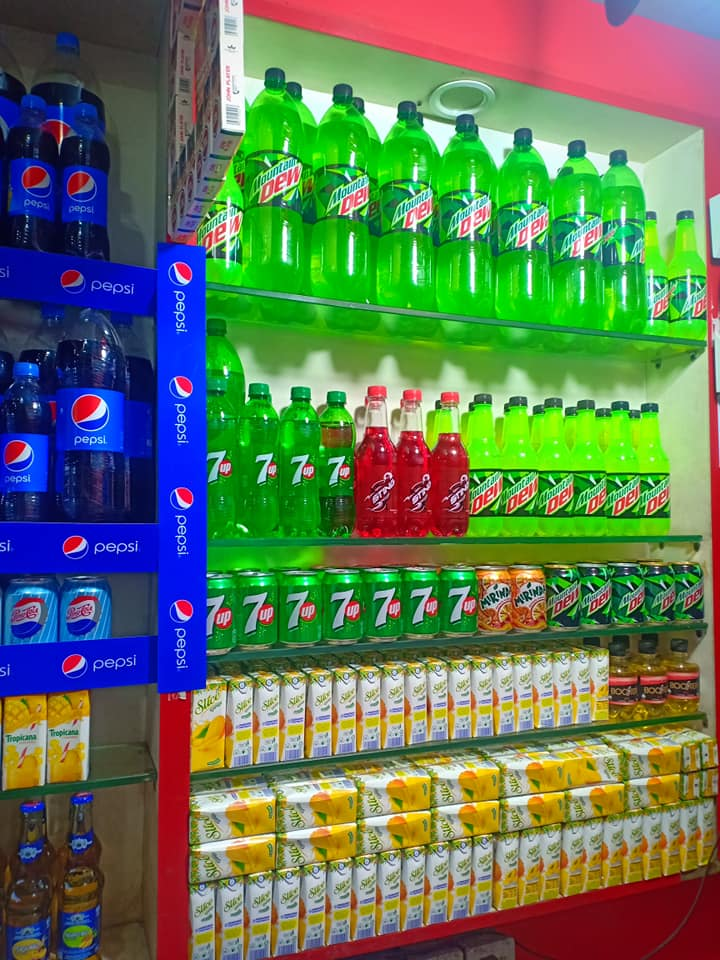7up: (241, 589, 277, 640), (326, 586, 362, 631), (445, 580, 477, 627), (283, 590, 319, 630), (371, 586, 402, 630), (206, 592, 233, 640), (408, 586, 437, 626), (251, 451, 280, 490), (206, 449, 234, 486), (287, 451, 314, 487), (323, 454, 350, 489)
booster: (670, 677, 699, 693), (610, 683, 638, 697), (642, 682, 669, 696)
mirinda: (477, 583, 512, 611), (512, 584, 547, 608)
mountaindew: (251, 155, 301, 204), (198, 207, 242, 254), (448, 194, 492, 239), (504, 205, 550, 247), (391, 186, 434, 230), (326, 171, 368, 216), (558, 215, 601, 255), (503, 473, 538, 514), (469, 472, 502, 514), (547, 579, 579, 617)
pepsi: (71, 391, 114, 433), (11, 593, 47, 642), (66, 592, 100, 636), (18, 164, 53, 200), (2, 439, 36, 474), (56, 650, 91, 684), (65, 170, 98, 205), (163, 594, 196, 626), (57, 532, 88, 562), (58, 264, 87, 295), (165, 371, 194, 401), (166, 483, 195, 511), (168, 258, 193, 287)
slice: (196, 812, 220, 840), (197, 693, 222, 715), (201, 852, 221, 877), (193, 898, 214, 917), (222, 893, 243, 912), (260, 691, 279, 711), (252, 888, 272, 907), (287, 689, 305, 707), (235, 695, 252, 713), (314, 689, 332, 705)
sting: (369, 474, 395, 504)
tropicana: (6, 732, 39, 744), (49, 727, 80, 739)
